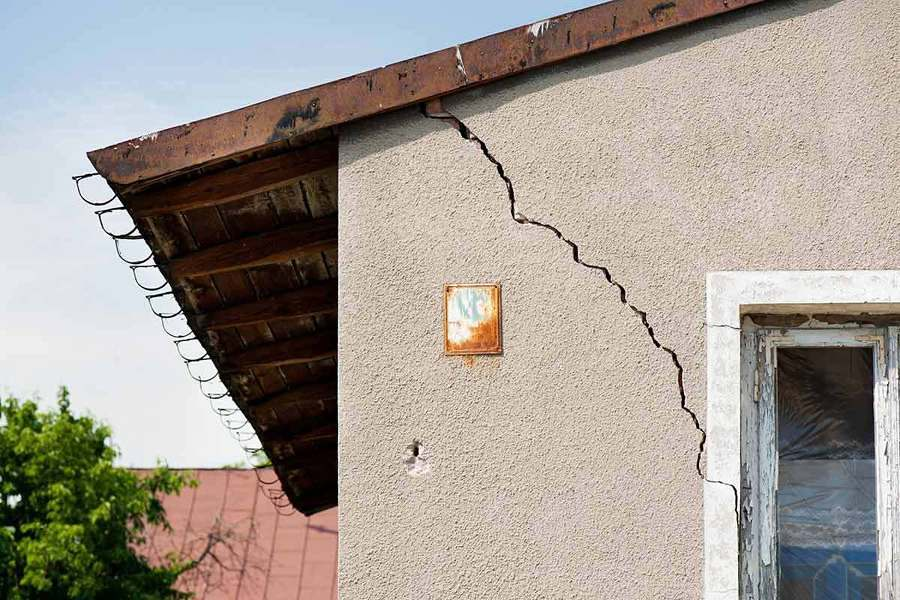Arbol: (6, 399, 212, 600)
Muro: (306, 1, 899, 600)
